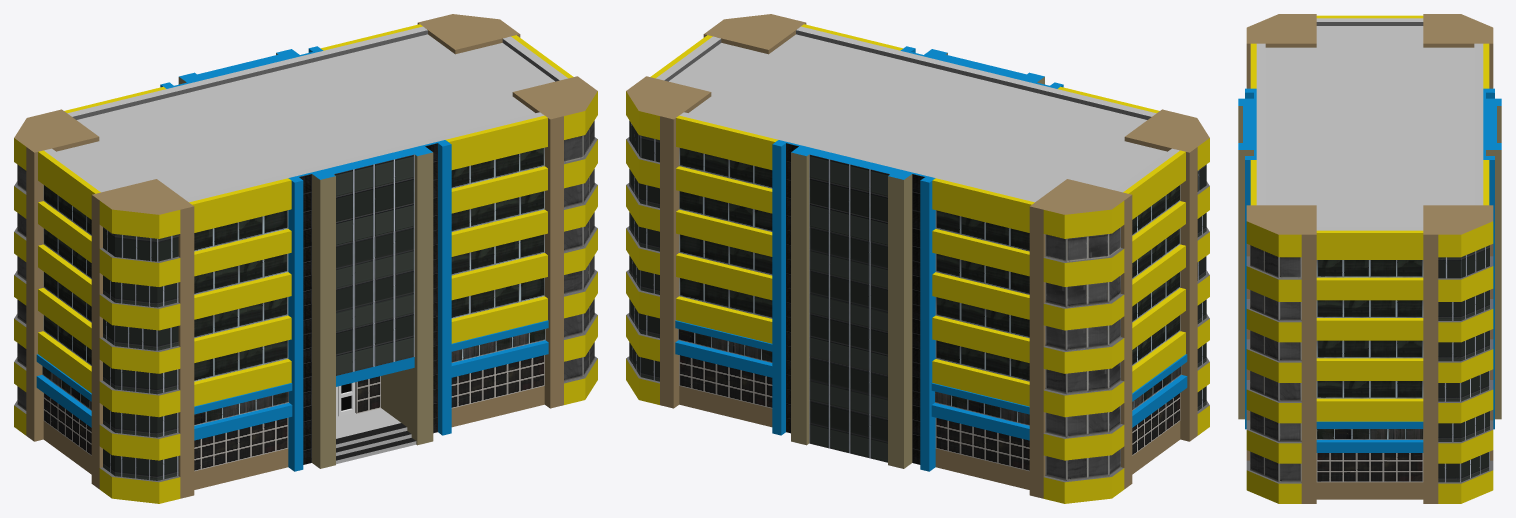
3 renders of one model, left to right at view 1: azimuth 30°, elevation 25°; view 2: azimuth 150°, elevation 25°; view 3: azimuth 270°, elevation 25°, orthographic. The views are drawn at different scales.
Parts seen in each view (by area): view 1: Building; view 2: Building; view 3: Building.
Boxes of the visible parts, <box> form: Building: <box>14,14,597,503</box>; Building: <box>626,14,1209,503</box>; Building: <box>1238,14,1501,503</box>.
Size of what is drawn, in the model's own units: 35.18 by 20 by 17.72.
